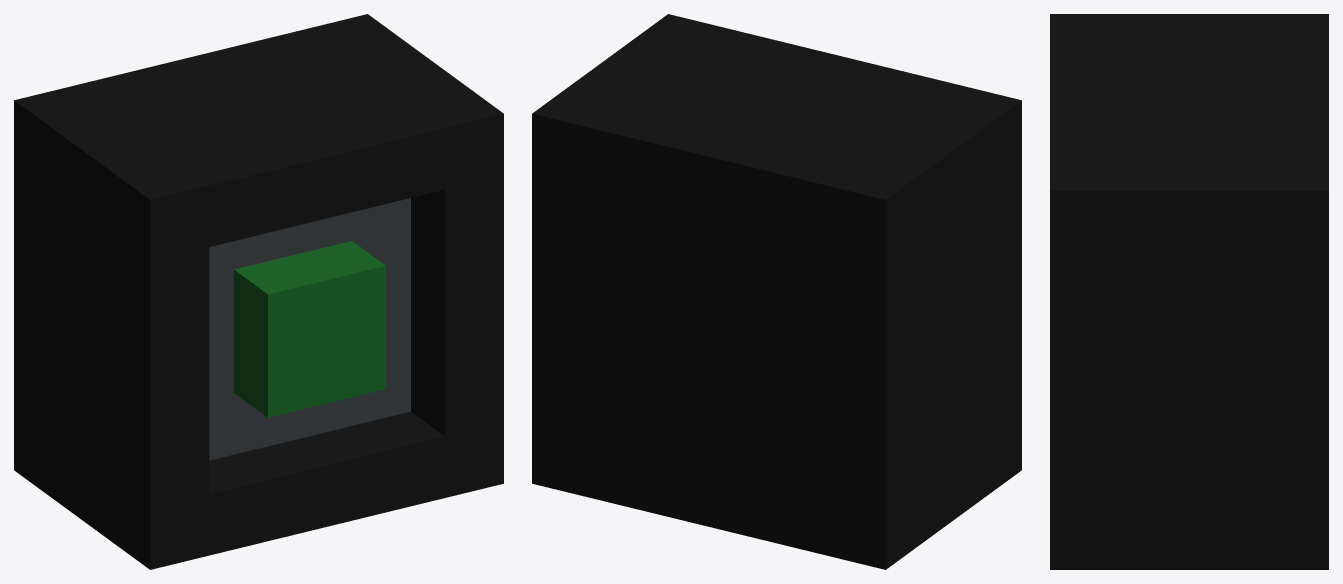
The model's file is charge_port.glb.
3 views of the same model, side by side, from view 1: azimuth 30°, elevation 25°; view 2: azimuth 150°, elevation 25°; view 3: azimuth 270°, elevation 25° (orthographic). The views are drawn at different scales.
Visible parts, largest first — view 1: body:compound; view 2: body:compound; view 3: body:compound.
Part boxes in pixels (left/top/right/bottom): body:compound: left=14, top=14, right=503, bottom=569; body:compound: left=532, top=14, right=1021, bottom=569; body:compound: left=1050, top=14, right=1328, bottom=569.
Size of the model in its own units: 0.1875 by 0.1875 by 0.125.
